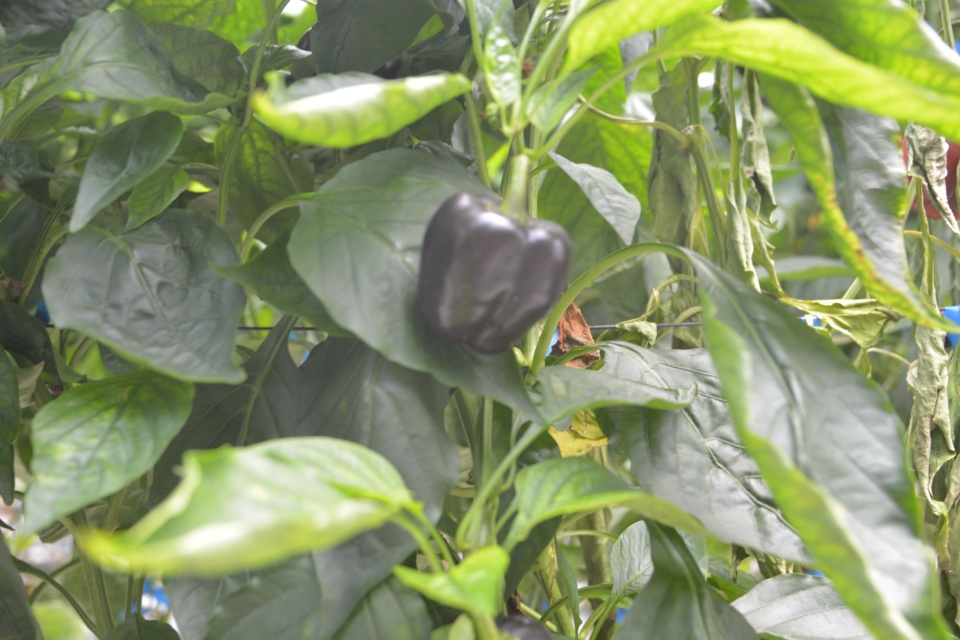fruit: (414, 189, 575, 357), (291, 25, 403, 80), (902, 123, 960, 221)
pedicle: (488, 201, 533, 222)
